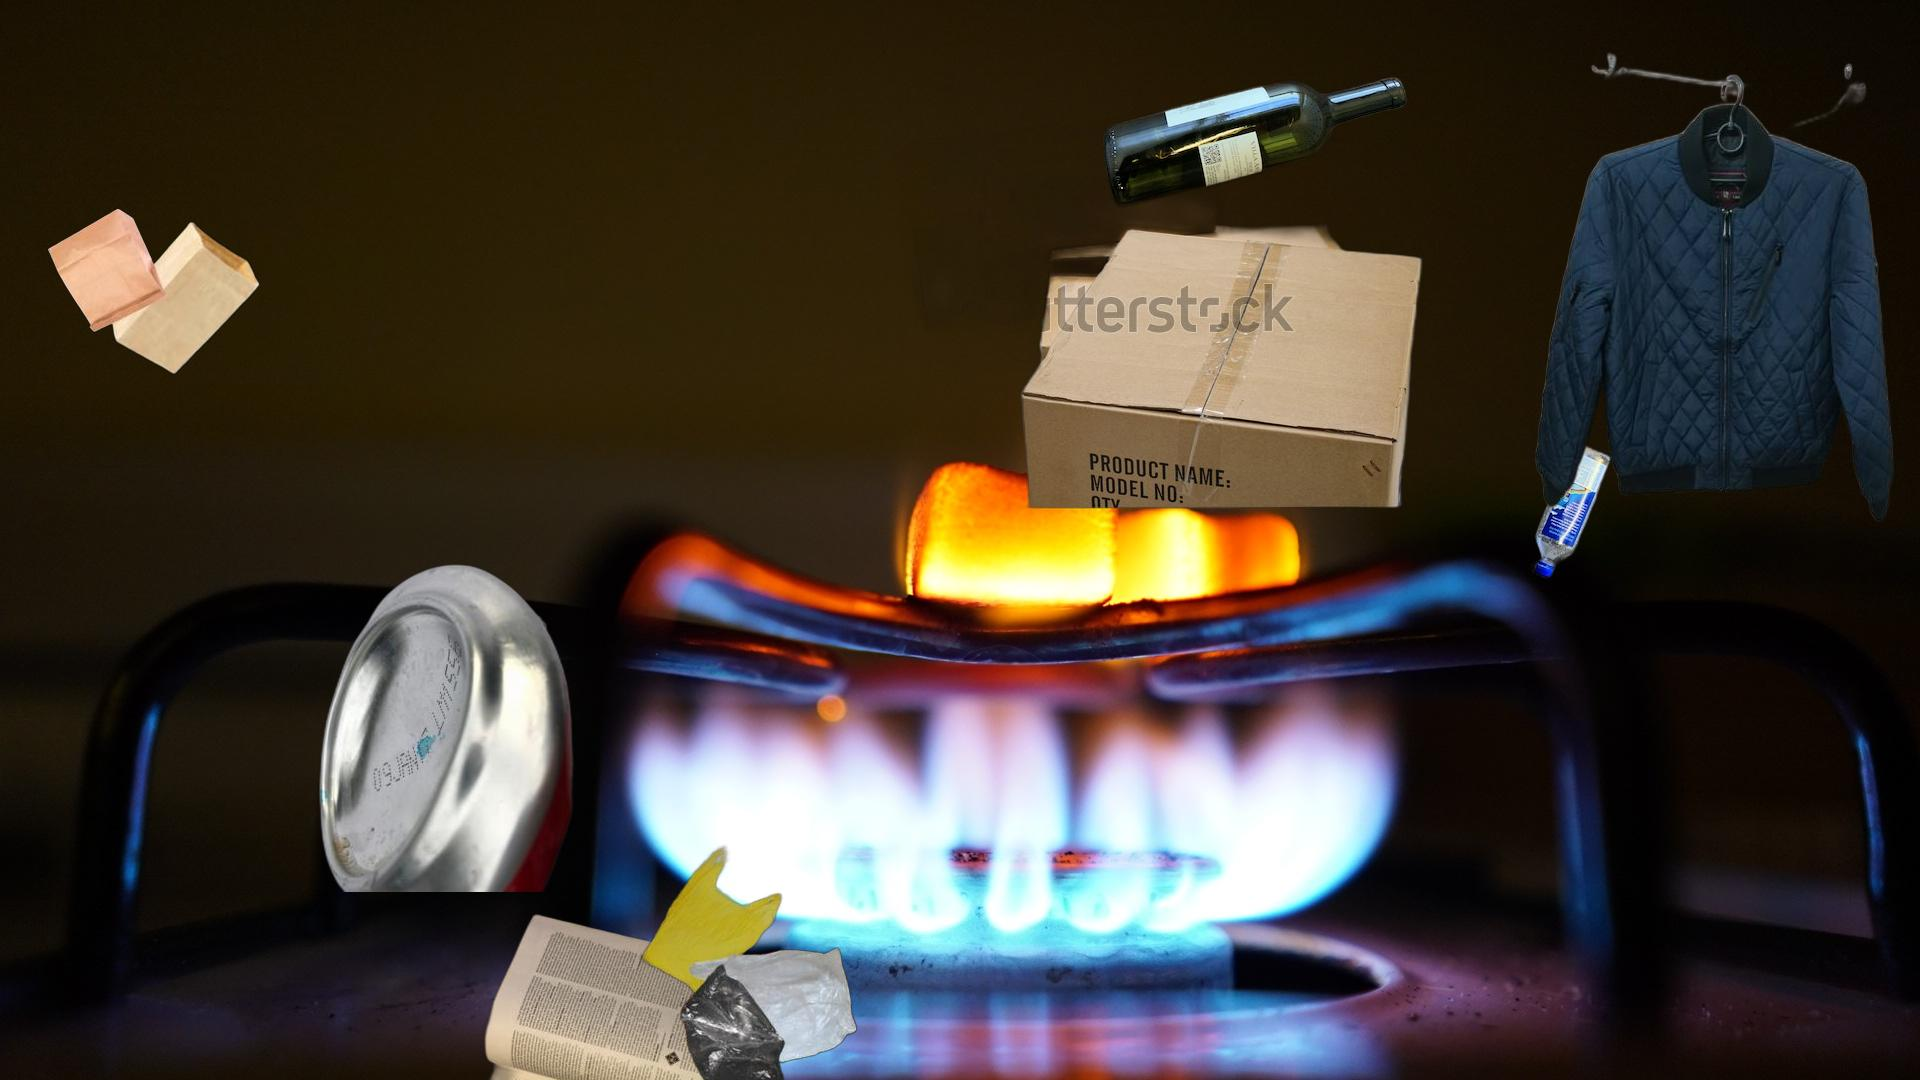clothes: (1532, 46, 1898, 526)
glass: (1098, 73, 1410, 212)
metal-cans: (314, 562, 622, 891)
paper: (452, 911, 790, 1080)
paper-bag: (47, 207, 262, 378)
plastic-bag: (637, 843, 860, 1080)
plastic-bottles: (1466, 136, 1832, 819)
trashbox-cardboard: (825, 109, 1425, 512)
